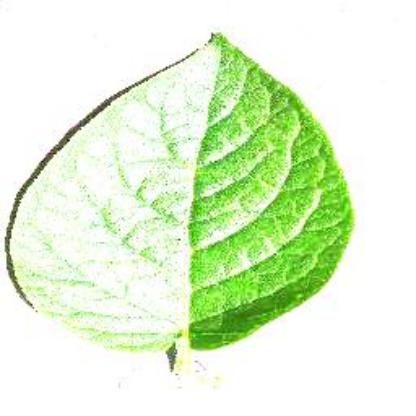Healthy-plant: (2, 29, 358, 381)
